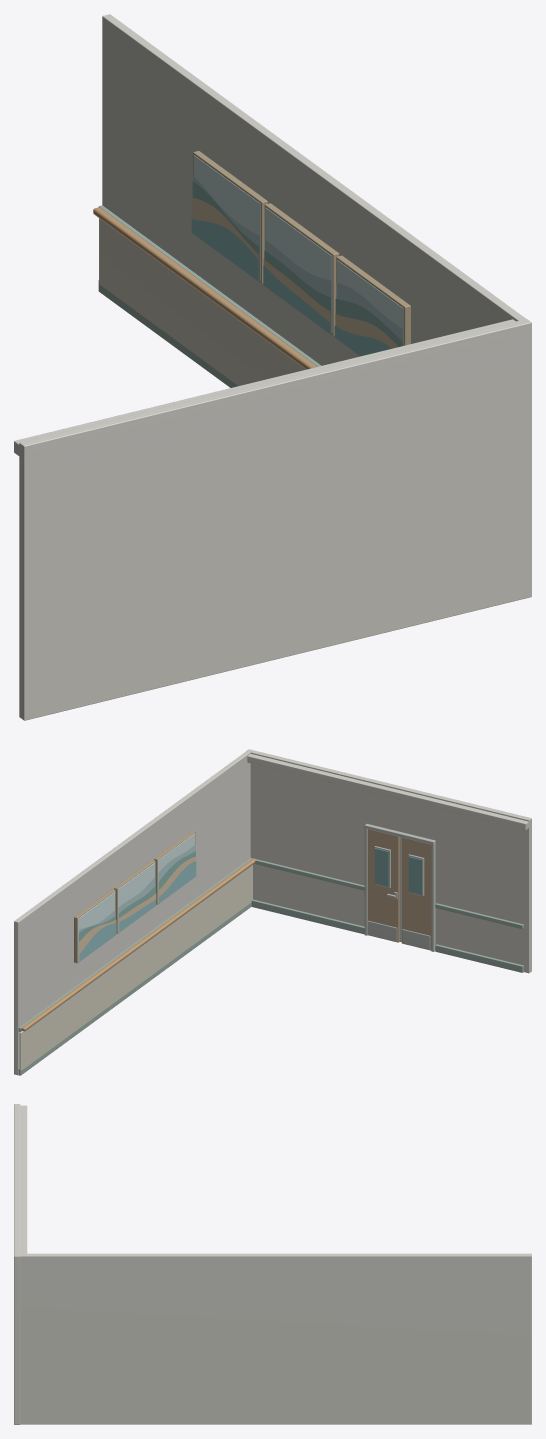
File: entry.glb
The picture shows the model from 3 angles, top to bottom: view 1: azimuth 30°, elevation 25°; view 2: azimuth 150°, elevation 25°; view 3: azimuth 270°, elevation 25°; orthographic projection. The views are drawn at different scales.
Visible parts, largest first — view 1: Entry wall, Foot wall, Linen dado, Entry ceiling return, Continuous ash handrail, Ceramic relief backing.001, Ceramic relief backing.002, River relief 2-3, Ceramic relief backing, Footwall protection, River relief 1-3, Relief frame.001 (+9 smaller); view 2: Entry wall, Foot wall, Linen dado, Entry ceiling return, Entry door.001, Entry door, Continuous ash handrail, Footwall protection, Entry protection.001, Entry protection, Ceramic relief backing.001, Ceramic relief backing.002 (+14 smaller); view 3: Foot wall, Entry wall, Entry ceiling return.
Part boxes in pixels (x1,y1,x2,y2): Entry wall: (19,319,531,720); Foot wall: (102,14,526,365); Linen dado: (99,218,305,385); Entry ceiling return: (14,319,530,459); Continuous ash handrail: (93,207,317,369); Ceramic relief backing.001: (265,207,332,332); Ceramic relief backing.002: (194,155,260,280); River relief 2-3: (191,219,258,280); Ceramic relief backing: (337,260,403,345); Footwall protection: (98,280,238,387); River relief 1-3: (263,265,329,333); Relief frame.001: (264,203,339,335); Entry wall: (247,749,531,973); Foot wall: (14,751,250,1075); Linen dado: (19,865,252,1070); Entry ceiling return: (247,754,528,830); Entry door.001: (367,829,399,942); Entry door: (401,837,431,950); Continuous ash handrail: (21,858,255,1031); Footwall protection: (18,902,251,1075); Entry protection.001: (251,899,364,934); Entry protection: (435,944,523,972); Ceramic relief backing.001: (118,862,155,932); Ceramic relief backing.002: (78,892,115,961); Foot wall: (18,1253,531,1424); Entry wall: (14,1104,20,1424); Entry ceiling return: (20,1105,27,1264).
Size of the model in its own units: 6.15 by 3.18 by 8.84.
